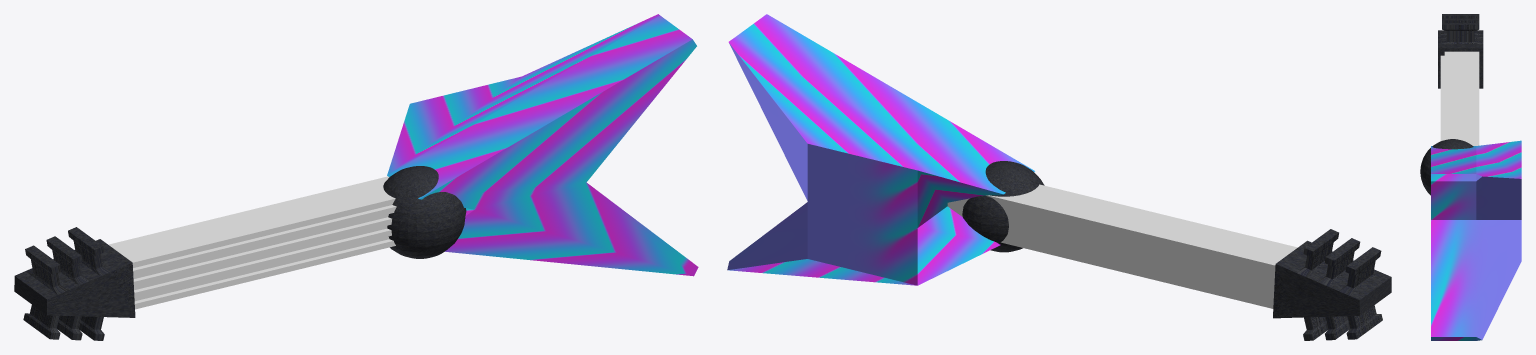
Rendered from Guitar.fbx.
3 views of the same model, side by side, from view 1: azimuth 30°, elevation 25°; view 2: azimuth 150°, elevation 25°; view 3: azimuth 270°, elevation 25° (orthographic). The views are drawn at different scales.
Visible parts, largest first — view 1: Cube, Cube.001, Cube.002; view 2: Cube, Cube.001, Cube.002; view 3: Cube, Cube.001, Cube.002.
Part boxes in pixels (x1,y1,x2,y2): Cube: (387, 14, 698, 276); Cube.001: (108, 176, 396, 309); Cube.002: (14, 166, 466, 340); Cube: (727, 14, 1034, 285); Cube.001: (947, 184, 1297, 308); Cube.002: (962, 161, 1391, 340); Cube: (1431, 140, 1521, 340); Cube.001: (1440, 51, 1479, 145); Cube.002: (1420, 14, 1483, 195).
Bounding box in the file's own units: 433 × 83.88 × 152.
2 materials, 2 textured.
